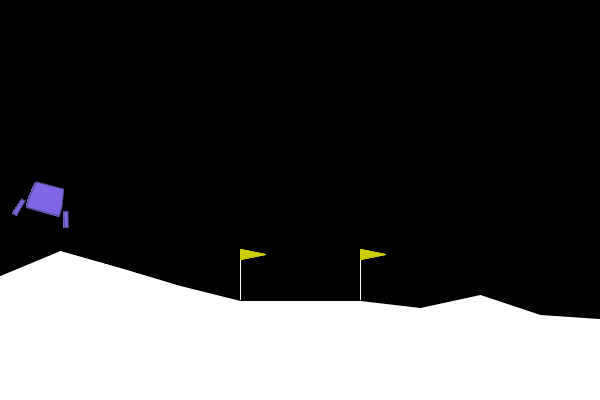lander: (11, 176, 79, 230)
